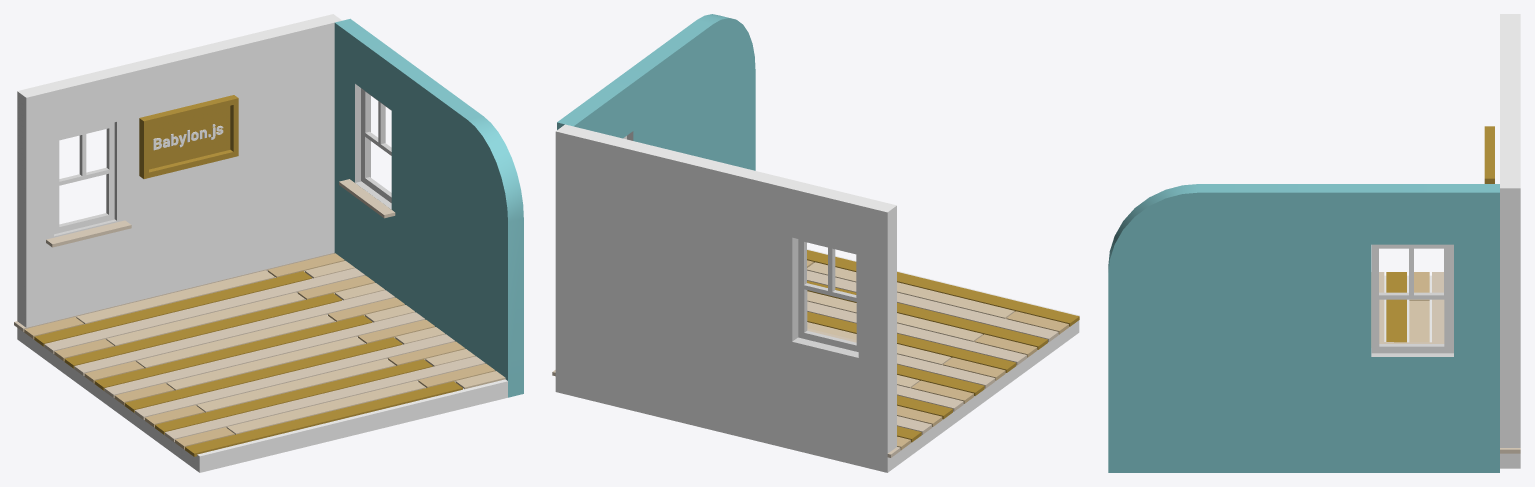
File: classroom.gltf
The picture shows the model from 3 angles, left to right: view 1: azimuth 30°, elevation 25°; view 2: azimuth 150°, elevation 25°; view 3: azimuth 270°, elevation 25°; orthographic projection. The views are drawn at different scales.
Parts seen in each view (by area): view 1: Cube.3, Cube.2 (×7), Cube.1 (×19), Cube (×9), walldeco, vensterbank (×2), babylon; view 2: Cube.3, Cube.2 (×6), Cube.1 (×8), Cube (×6); view 3: Cube.2 (×2), Cube.3, Cube, Cube.1 (×4), walldeco.
Boxes of the visible parts, x1,y1,x2,y2 form: Cube.3: (17,14,341,345); Cube.2 (×7): (34,18,523,456); Cube.1 (×19): (14,252,507,472); Cube (×9): (24,84,391,449); walldeco: (139,95,238,178); vensterbank (×2): (46,179,395,247); babylon: (153,124,223,150); Cube.3: (555,124,896,472); Cube.2 (×6): (557,14,1079,419); Cube.1 (×8): (807,249,1079,465); Cube (×6): (792,237,1068,403); Cube.2 (×2): (1108,184,1499,472); Cube.3: (1500,14,1520,468); Cube: (1371,244,1453,353); Cube.1 (×4): (1371,272,1444,342); walldeco: (1484,126,1494,183).
Size of the model in its own units: 207 by 150 by 200.
